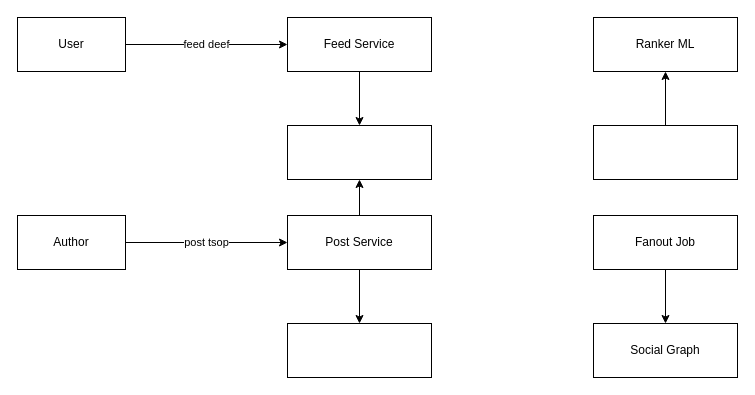
The diagram is 755 pixels wide and 395 high, and some of its shapes have lost their labels. Here are the shapes that lost their labels. From the top down, the centre of each, then its label:
At (359,152): "Feed Cache".
At (665,152): "Feature Store".
At (359,350): "Post DB".
